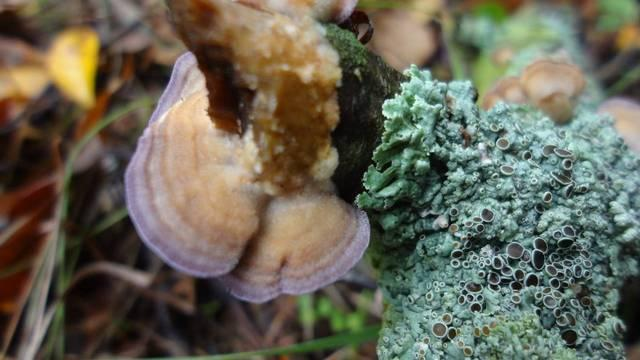poisonous_mushroom: (122, 0, 372, 303)
